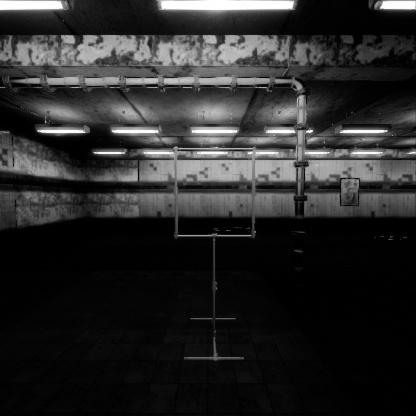gate: (174, 177, 263, 268)
